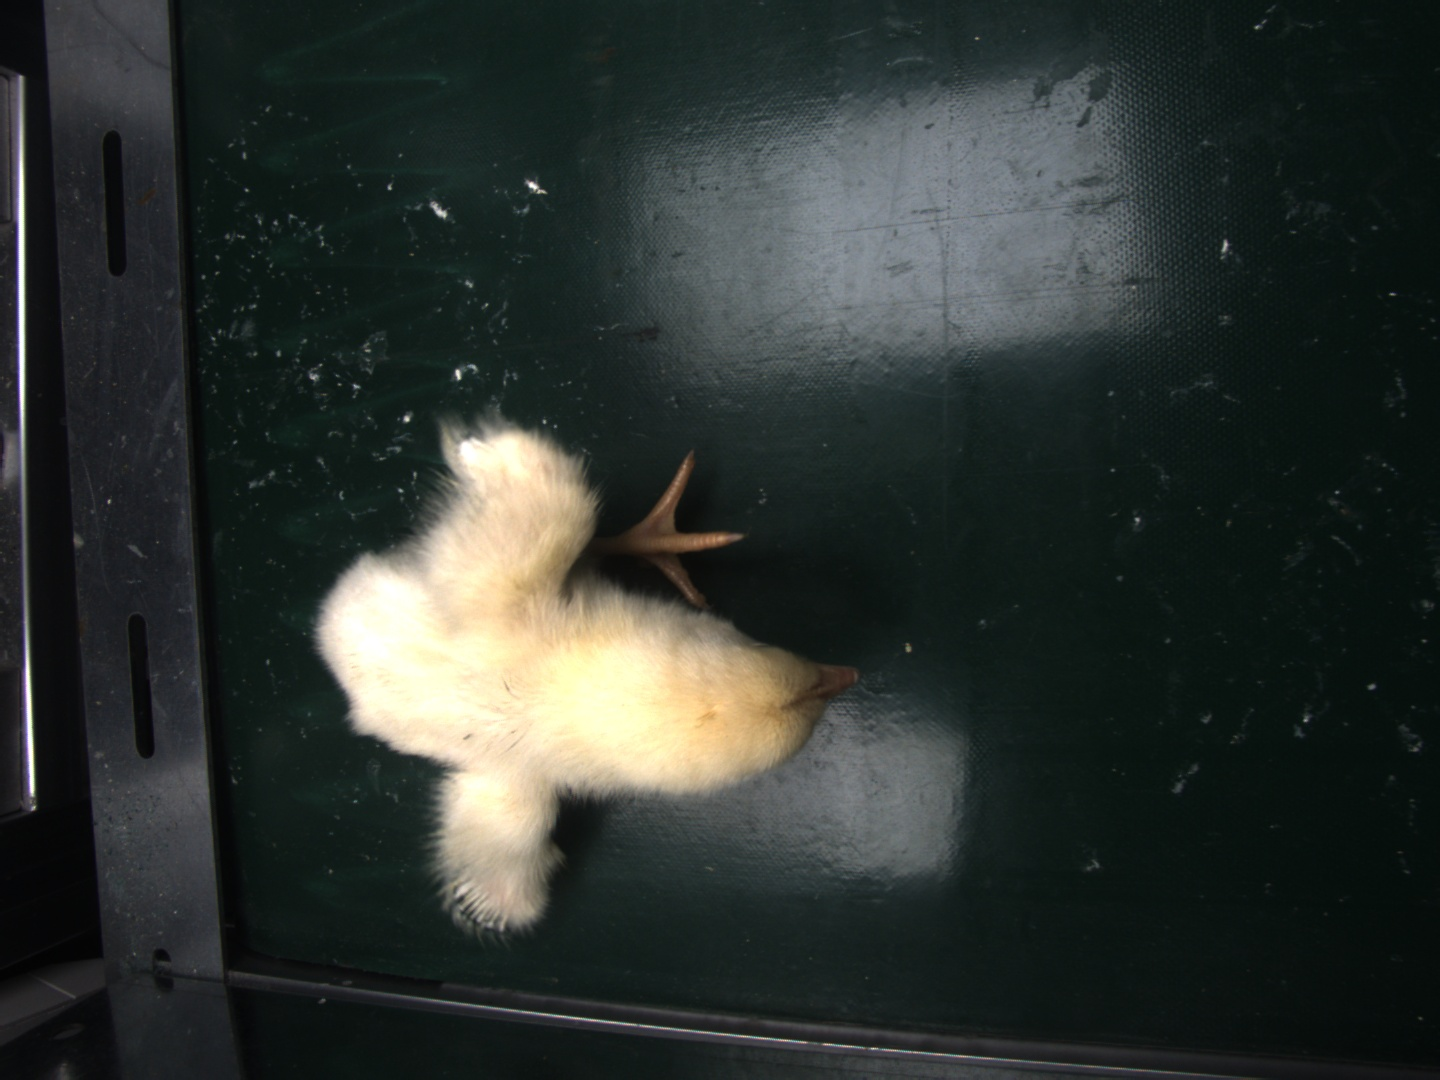male: (450, 880, 513, 938)
